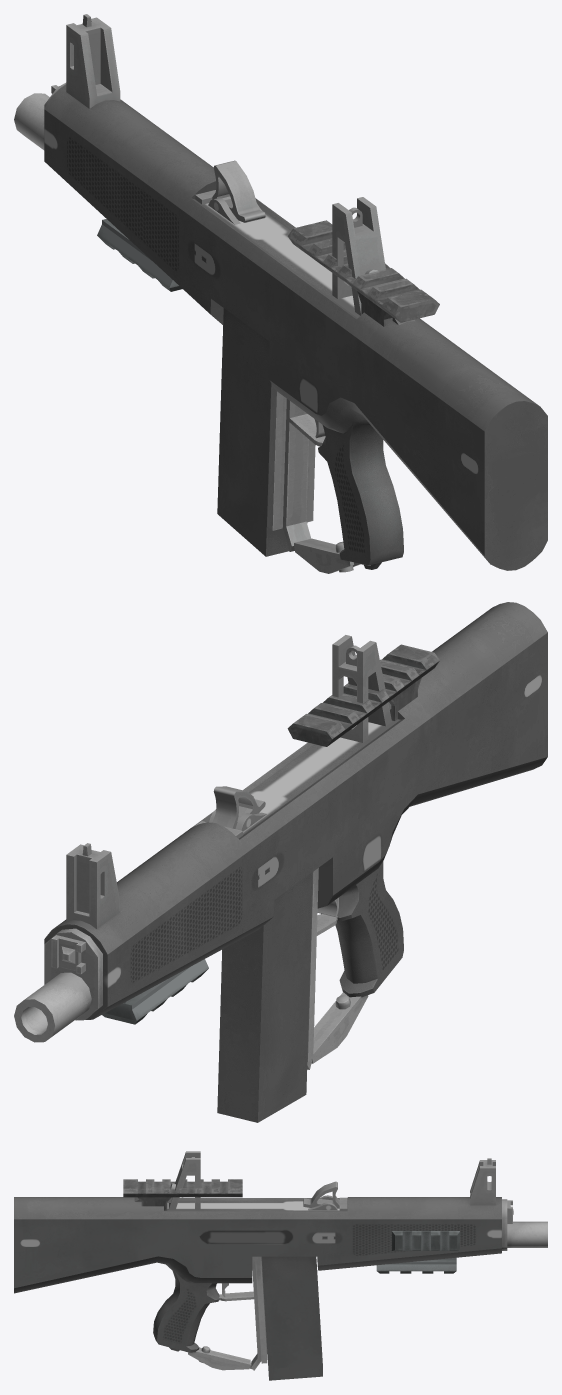
The model's file is IG_Gun_AA12.fbx.
3 views of the same model, one above another, from view 1: azimuth 30°, elevation 25°; view 2: azimuth 150°, elevation 25°; view 3: azimuth 270°, elevation 25° (orthographic). The views are drawn at different scales.
Parts seen in each view (by area): view 1: WPN_AA12, ShowIf_Scope, HideIf_Scope, ShowIf_Grip; view 2: WPN_AA12, ShowIf_Scope, HideIf_Scope, ShowIf_Grip; view 3: WPN_AA12, ShowIf_Scope, WPN_Slideway, HideIf_Scope, ShowIf_Grip.
Boxes of the visible parts, x1=… form: WPN_AA12: x1=14, y1=14, x2=547, y2=573; ShowIf_Scope: x1=287, y1=220, x2=439, y2=326; HideIf_Scope: x1=332, y1=197, x2=385, y2=315; ShowIf_Grip: x1=97, y1=219, x2=182, y2=291; WPN_AA12: x1=14, y1=602, x2=547, y2=1122; ShowIf_Scope: x1=287, y1=644, x2=439, y2=746; HideIf_Scope: x1=332, y1=635, x2=391, y2=742; ShowIf_Grip: x1=102, y1=959, x2=208, y2=1024; WPN_AA12: x1=14, y1=1158, x2=547, y2=1380; ShowIf_Scope: x1=123, y1=1179, x2=242, y2=1210; WPN_Slideway: x1=392, y1=1231, x2=459, y2=1250; HideIf_Scope: x1=167, y1=1151, x2=200, y2=1209; ShowIf_Grip: x1=376, y1=1258, x2=456, y2=1273.
Size of the model in its own units: 0.1073 by 0.5063 by 1.11.
